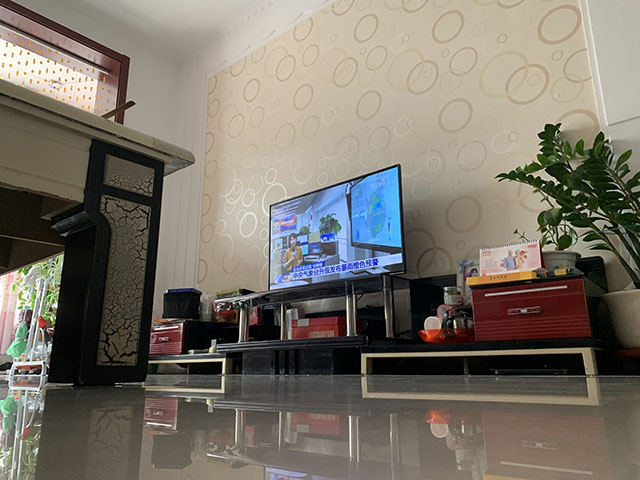cabinet: (147, 254, 619, 376)
table: (1, 77, 197, 390)
